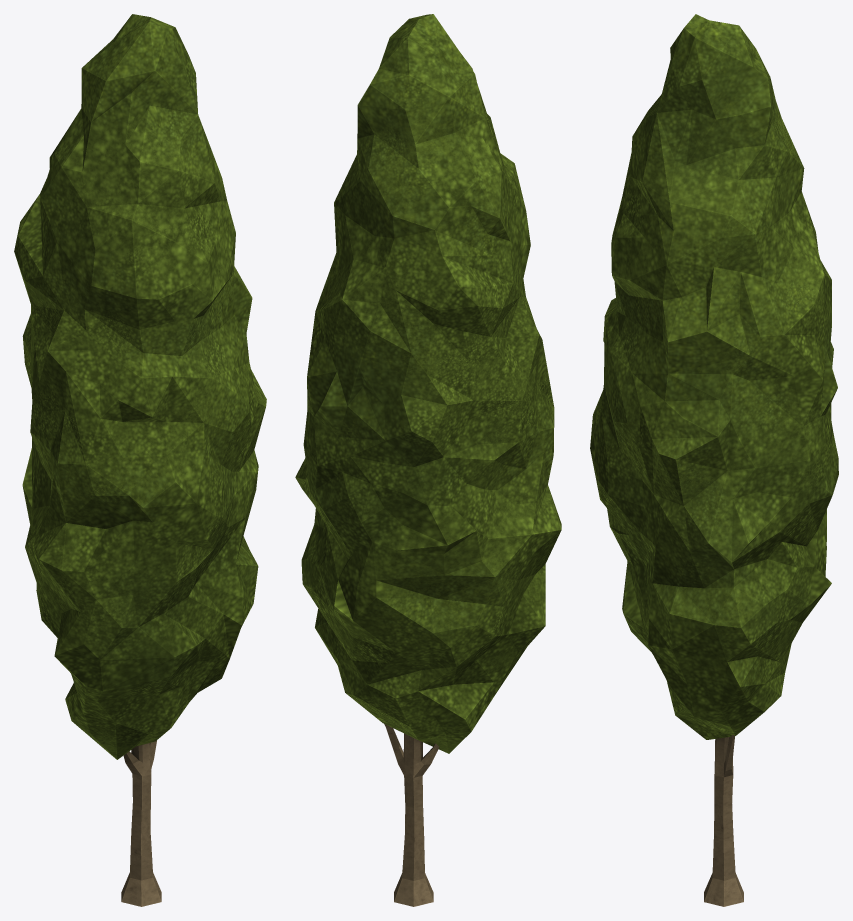
Rendered from poplar-tree.glb.
3 views of the same model, side by side, from view 1: azimuth 30°, elevation 25°; view 2: azimuth 150°, elevation 25°; view 3: azimuth 270°, elevation 25° (orthographic).
Parts seen in each view (by area): view 1: PoplarTree_Mesh; view 2: PoplarTree_Mesh; view 3: PoplarTree_Mesh.
Boxes of the visible parts, left/top/right/bottom form: PoplarTree_Mesh: left=14, top=14, right=266, bottom=906; PoplarTree_Mesh: left=295, top=14, right=561, bottom=906; PoplarTree_Mesh: left=590, top=14, right=838, bottom=906.
Bounding box in the file's own units: 3.56 × 12.79 × 3.28.
Materials: 1 (1 with a texture image).
